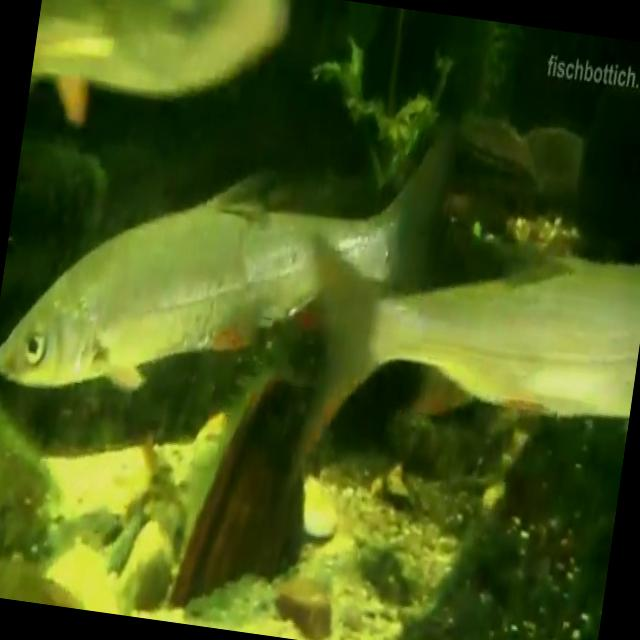Cakil Baligi: (0, 80, 477, 455)
